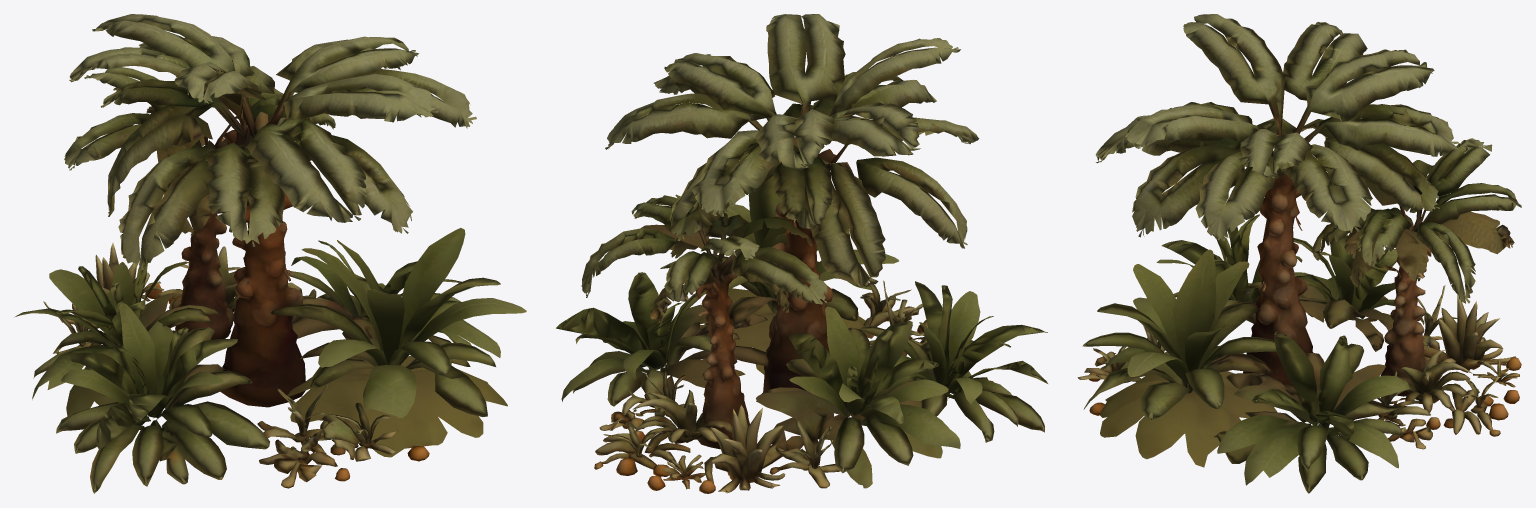
The model's file is jun_fern_cluster_tree_fern.glb.
The picture shows the model from 3 angles, left to right: view 1: azimuth 30°, elevation 25°; view 2: azimuth 150°, elevation 25°; view 3: azimuth 270°, elevation 25°; orthographic projection. The views are drawn at different scales.
Visible parts, largest first — view 1: tripo_node_423479ea-ce77-42fe-a1a3-5ccf0479997e; view 2: tripo_node_423479ea-ce77-42fe-a1a3-5ccf0479997e; view 3: tripo_node_423479ea-ce77-42fe-a1a3-5ccf0479997e.
Part boxes in pixels (left/top/right/bottom): tripo_node_423479ea-ce77-42fe-a1a3-5ccf0479997e: left=14, top=14, right=526, bottom=493; tripo_node_423479ea-ce77-42fe-a1a3-5ccf0479997e: left=556, top=14, right=1047, bottom=493; tripo_node_423479ea-ce77-42fe-a1a3-5ccf0479997e: left=1077, top=14, right=1521, bottom=493.
Bounding box in the file's own units: 0.998 × 0.8496 × 0.998.
Materials: 1 (1 with a texture image).
